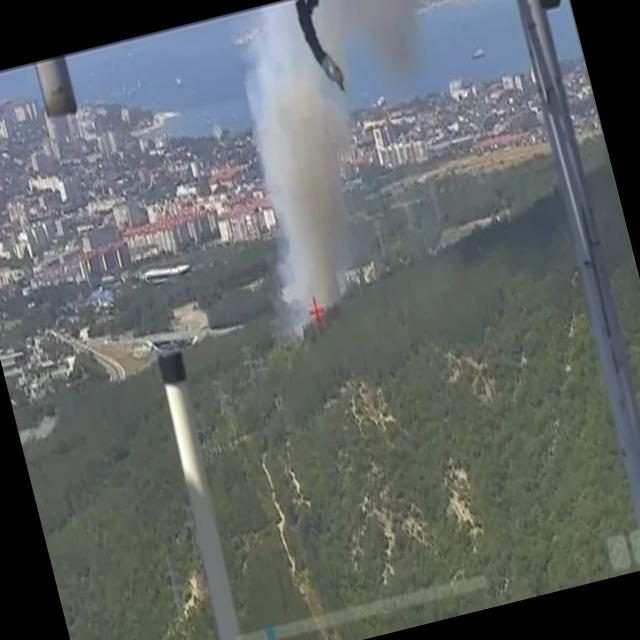Smoke: (208, 0, 487, 321)
